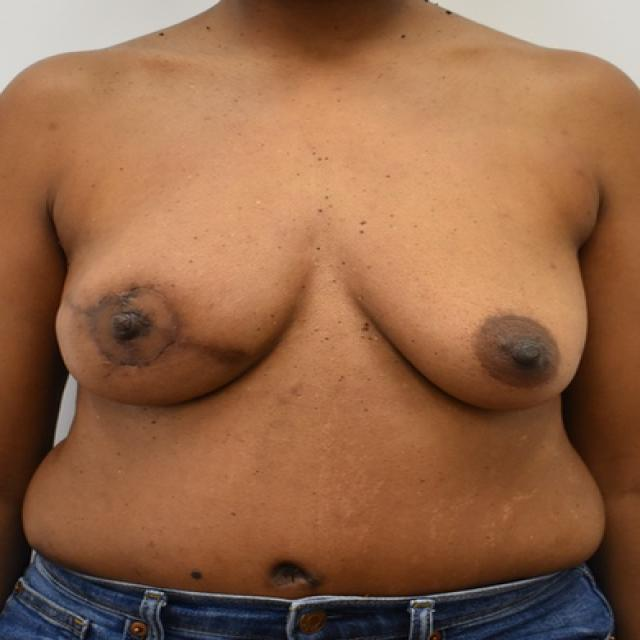Seno herido: (46, 204, 320, 418)
Seno ileso: (337, 203, 597, 421)
